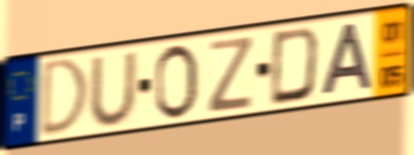A: (319, 20, 375, 99)
D: (268, 24, 323, 108), (38, 55, 91, 141)
O: (152, 41, 200, 123)
U: (88, 48, 139, 128)
Z: (206, 34, 255, 116)
